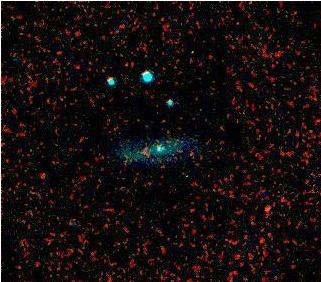star: (253, 197, 283, 227)
